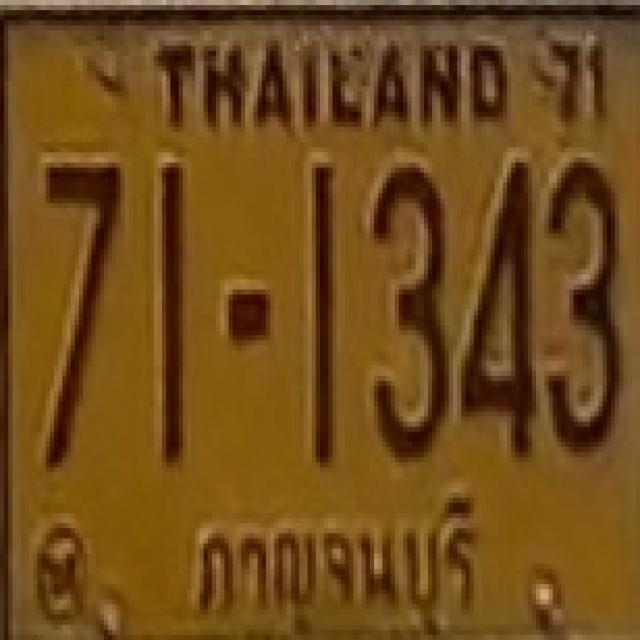1: (312, 165, 332, 389)
3: (370, 163, 445, 457), (544, 160, 620, 450)
4: (457, 160, 532, 455)
7: (42, 160, 116, 338)
KRI: (181, 487, 498, 639)
